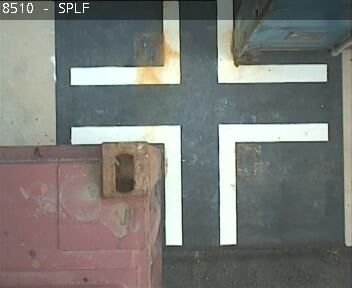groundmarker_1: (70, 120, 329, 244), (70, 1, 328, 85)
